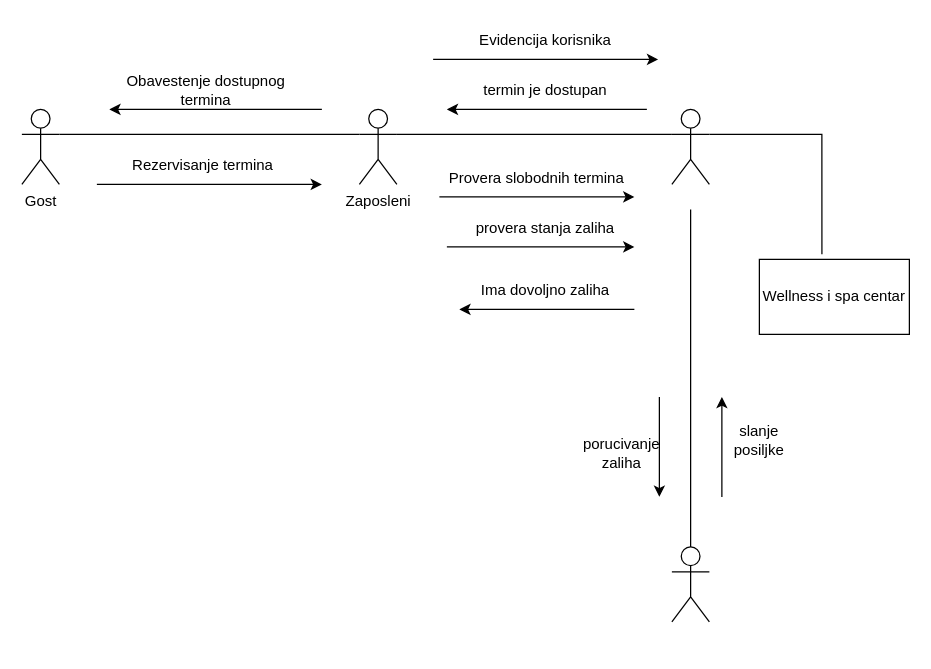
Image size: 931x669. Some labels were removed from this diagram. Here are the shapes that lost their labels. From the top down, the box of each, then its label:
(671, 108, 709, 184): Sistem
(671, 546, 709, 622): Dobavljac
